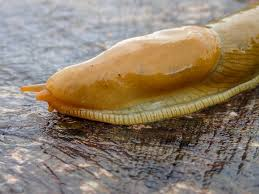slug: (24, 5, 259, 128)
